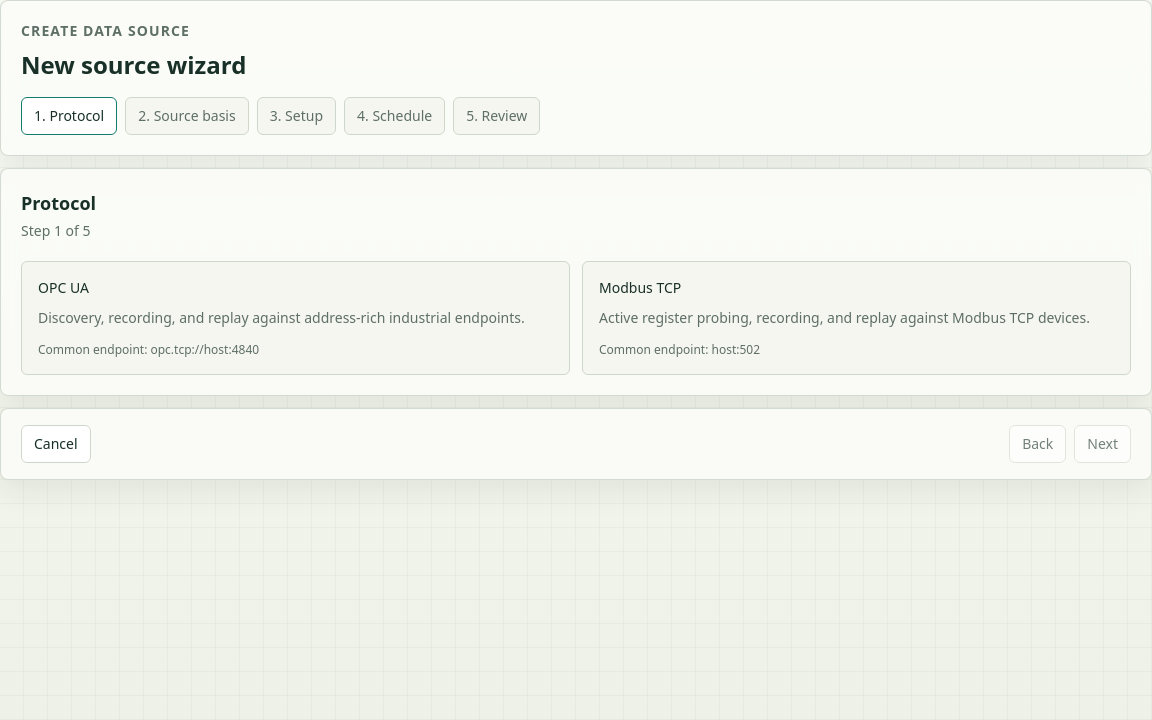
Test case: CreateDataSourceWizardPage — scan setup validation › enables Next when source name is filled
Click the text "OPC UA".
click(63, 288)  # box [38, 278, 89, 297]
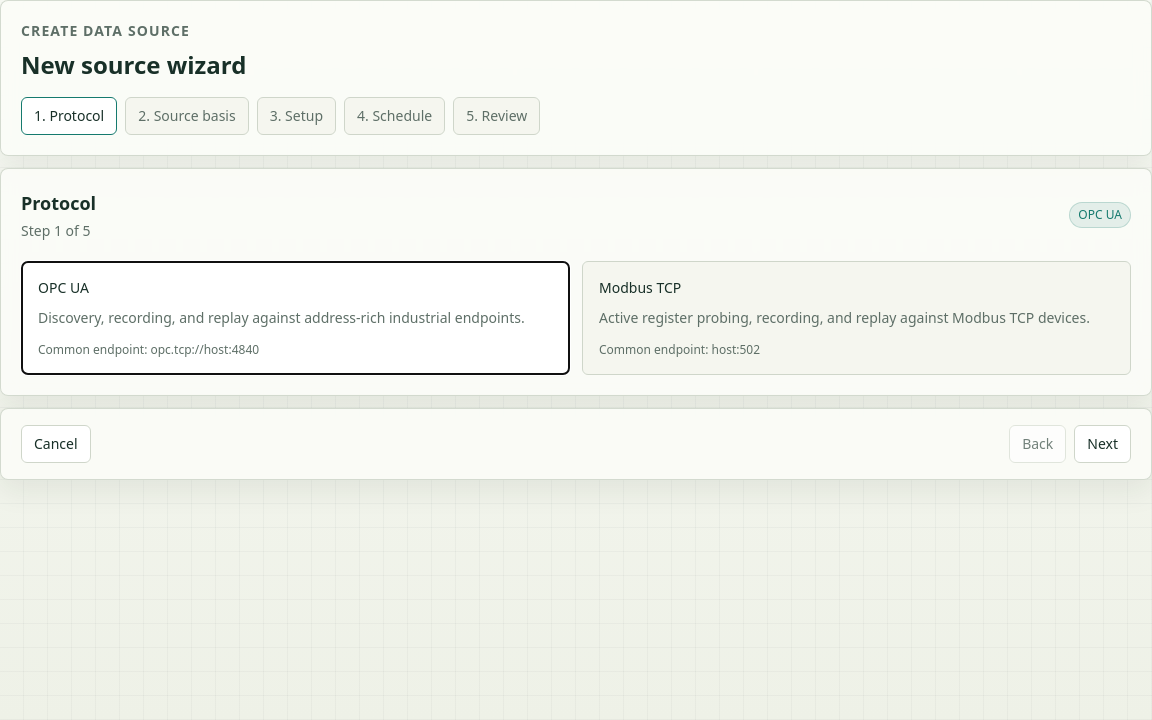
Click the button "Next".
click(1103, 444)  # box [1074, 425, 1131, 463]
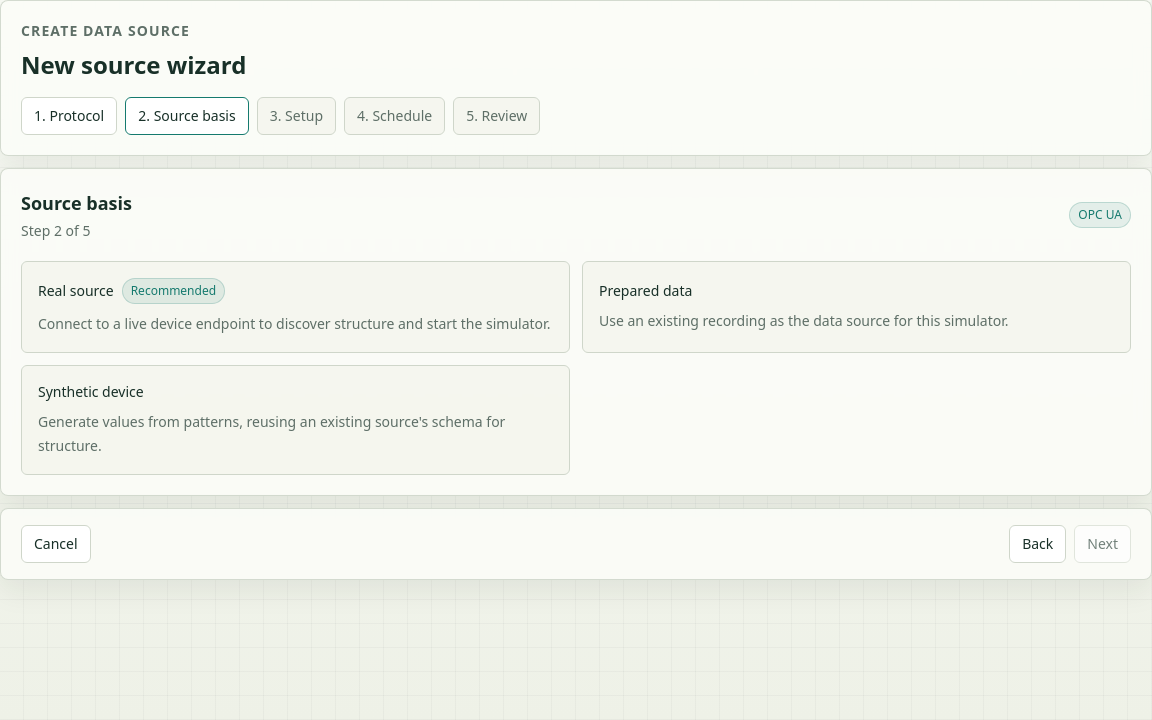
Click the text "Real source".
click(76, 291)  # box [38, 281, 114, 301]
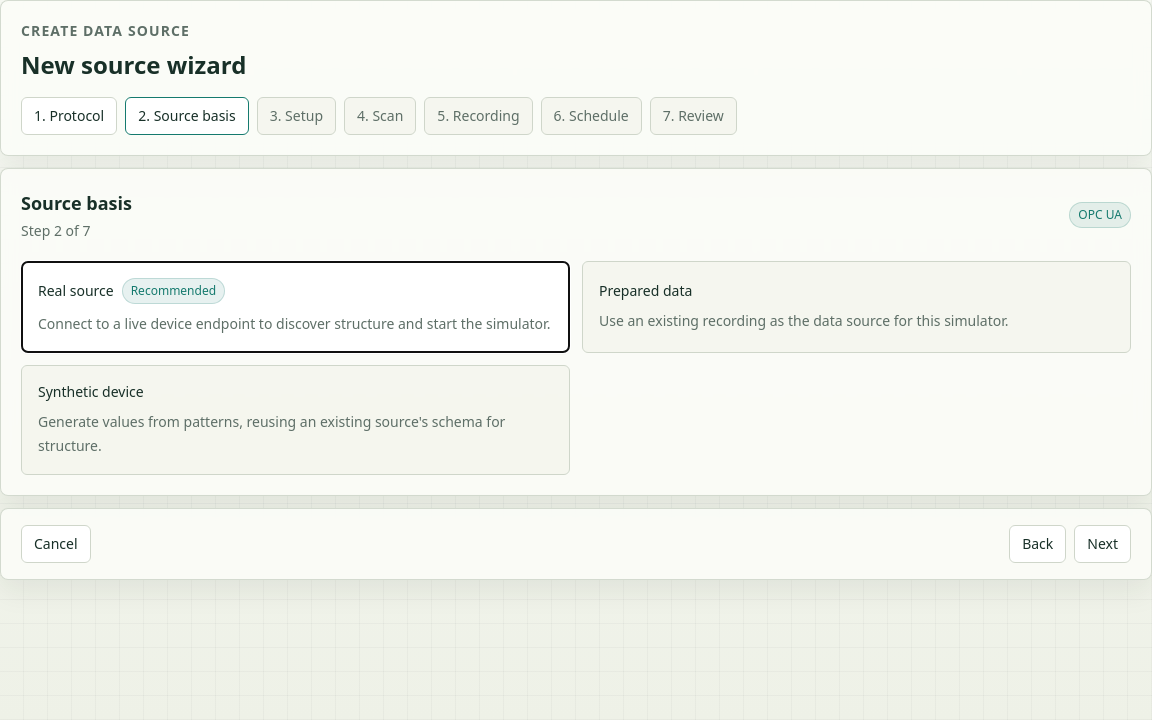
Click the button "Next".
click(1103, 544)  # box [1074, 525, 1131, 563]
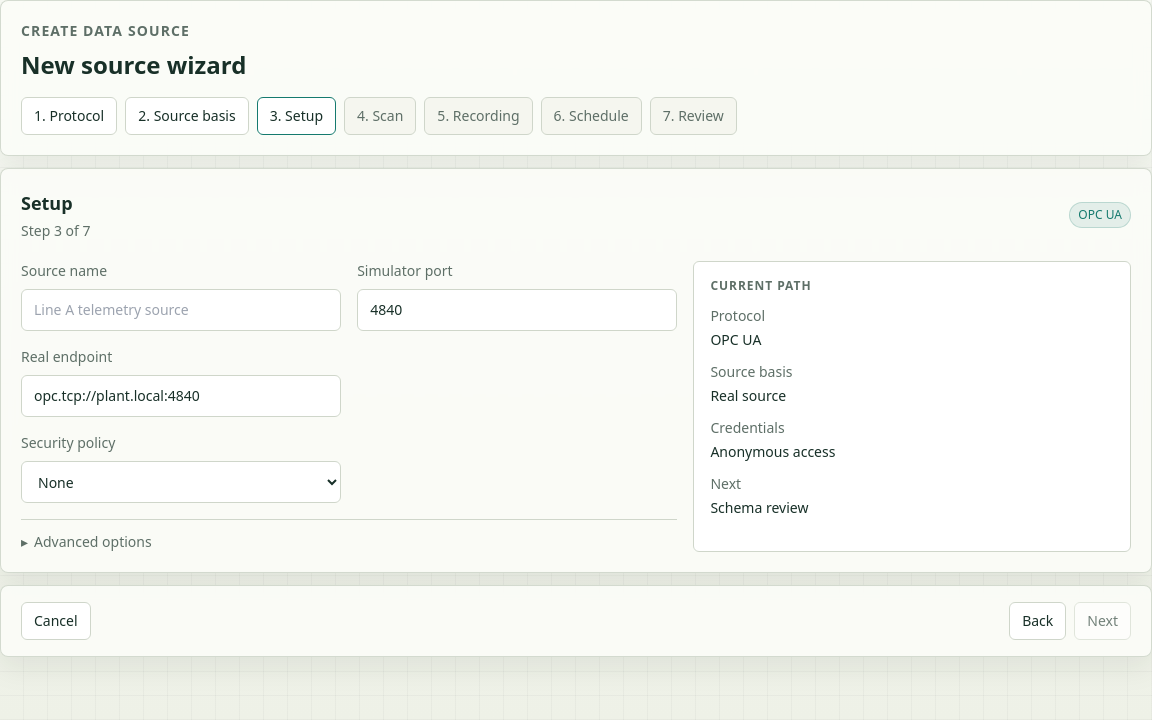
Type "Test source" into the field labelled "Source name".
click(181, 310); type("Test source")  # box [21, 289, 341, 331]
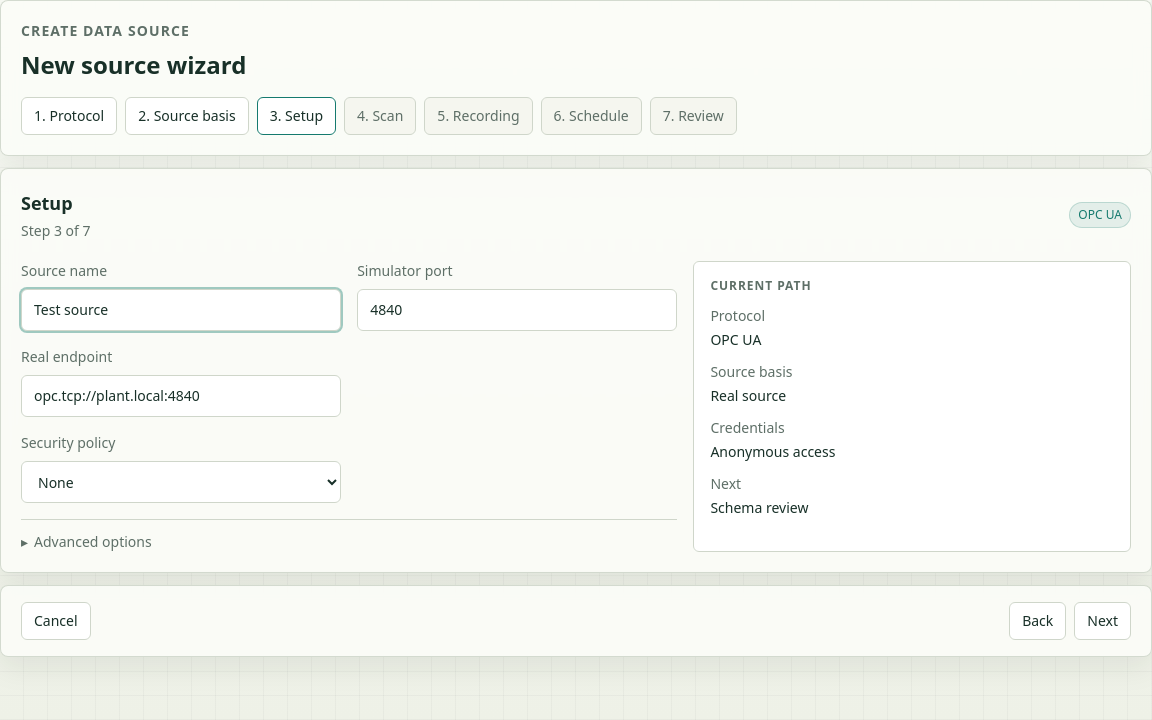
Expected: the button "Next" is enabled, [1074, 602, 1131, 640]
